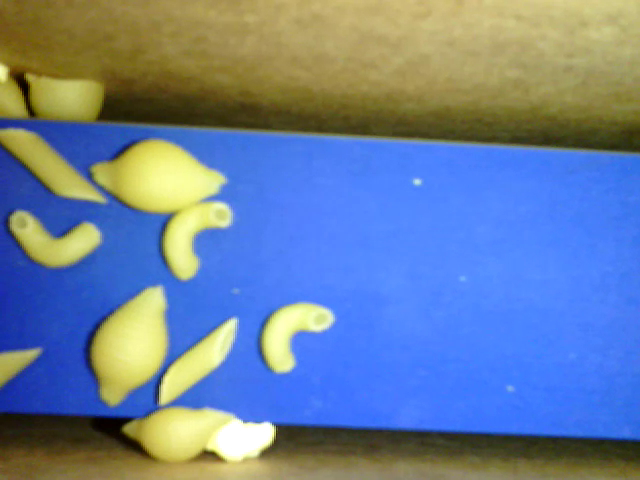elbow: (158, 199, 234, 281), (257, 301, 339, 375), (11, 209, 103, 269)
penne: (1, 129, 112, 206), (159, 318, 242, 408), (4, 348, 44, 390)
shell: (88, 138, 230, 216), (83, 283, 171, 408), (125, 405, 238, 464), (28, 72, 107, 125)
